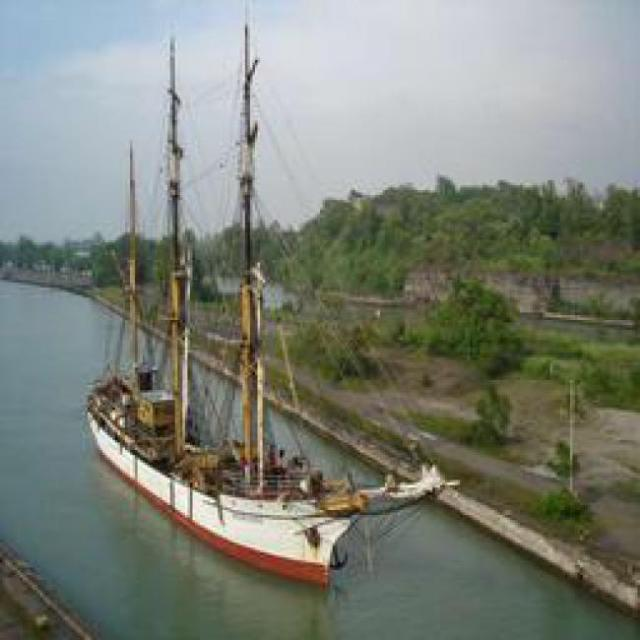boat: (87, 140, 441, 585)
